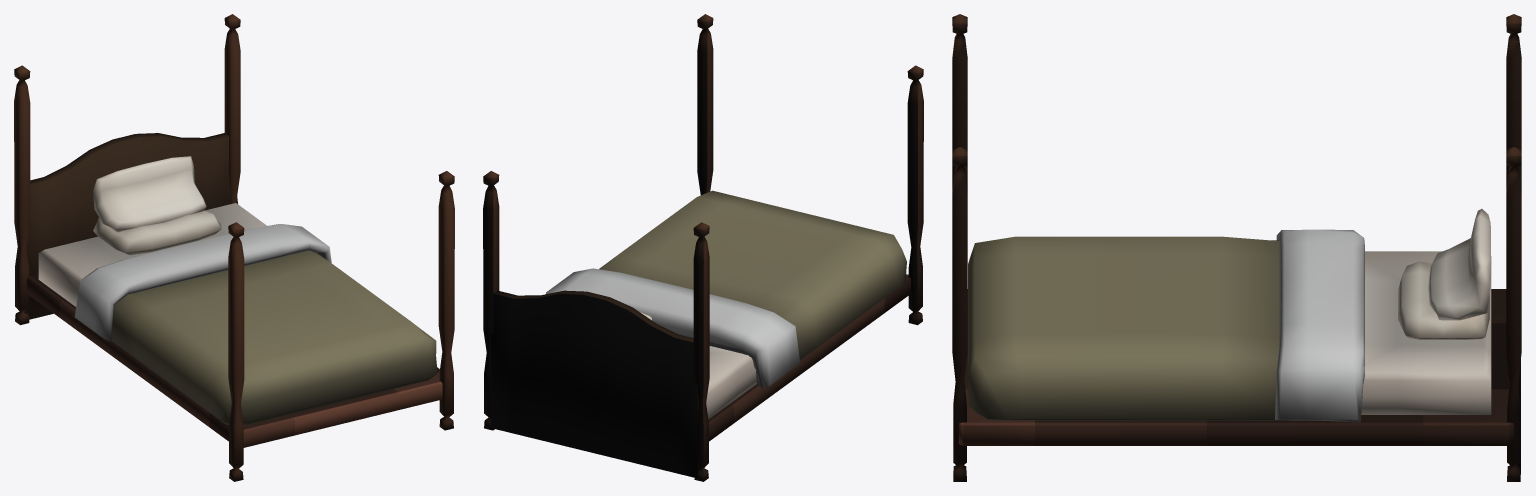
File: furnishings-indoor-fourpostbed_v1.glb
3 renders of one model, left to right at view 1: azimuth 30°, elevation 25°; view 2: azimuth 150°, elevation 25°; view 3: azimuth 270°, elevation 25°, orthographic. The views are drawn at different scales.
Visible parts, largest first — view 1: FourPostBed_v1_base, FourPostBed_v1_color; view 2: FourPostBed_v1_base, FourPostBed_v1_color; view 3: FourPostBed_v1_color, FourPostBed_v1_base.
Boxes of the visible parts, bbox=[...] form: FourPostBed_v1_base: bbox=[14, 14, 454, 481]; FourPostBed_v1_color: bbox=[74, 224, 439, 424]; FourPostBed_v1_base: bbox=[483, 14, 923, 481]; FourPostBed_v1_color: bbox=[546, 190, 906, 388]; FourPostBed_v1_color: bbox=[968, 229, 1364, 422]; FourPostBed_v1_base: bbox=[952, 14, 1521, 481].
Size of the model in its own units: 1.59 by 1.7 by 2.64.
